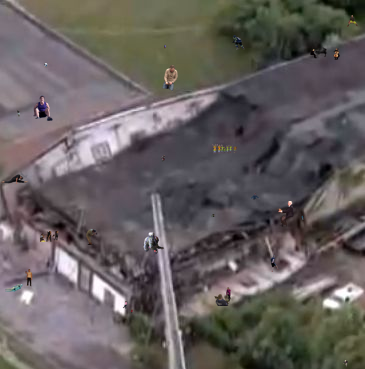Human: (142, 232, 164, 257), (310, 42, 340, 60), (33, 95, 53, 121), (276, 201, 294, 229), (162, 65, 178, 93), (25, 269, 49, 287), (1, 170, 30, 184), (214, 286, 232, 306), (212, 144, 237, 155), (40, 231, 59, 242), (232, 35, 245, 50), (86, 229, 98, 245), (270, 255, 280, 272), (5, 284, 23, 292), (347, 15, 358, 27), (118, 301, 127, 310), (250, 193, 260, 200), (343, 360, 348, 367), (161, 155, 165, 162), (131, 309, 136, 314), (17, 110, 20, 117), (44, 63, 48, 68), (301, 215, 304, 220), (211, 214, 215, 217), (164, 44, 166, 49)
